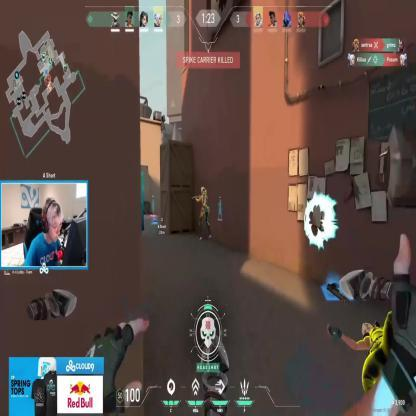enemy: (196, 185, 211, 241)
enemy_head: (200, 186, 206, 196)
